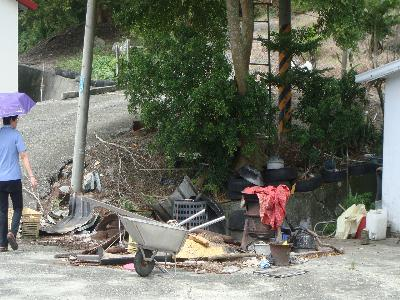bowl: (236, 161, 265, 188), (264, 152, 286, 165)
bucket: (268, 238, 294, 267), (367, 208, 388, 241)
tire: (260, 167, 299, 181), (291, 175, 324, 191)
